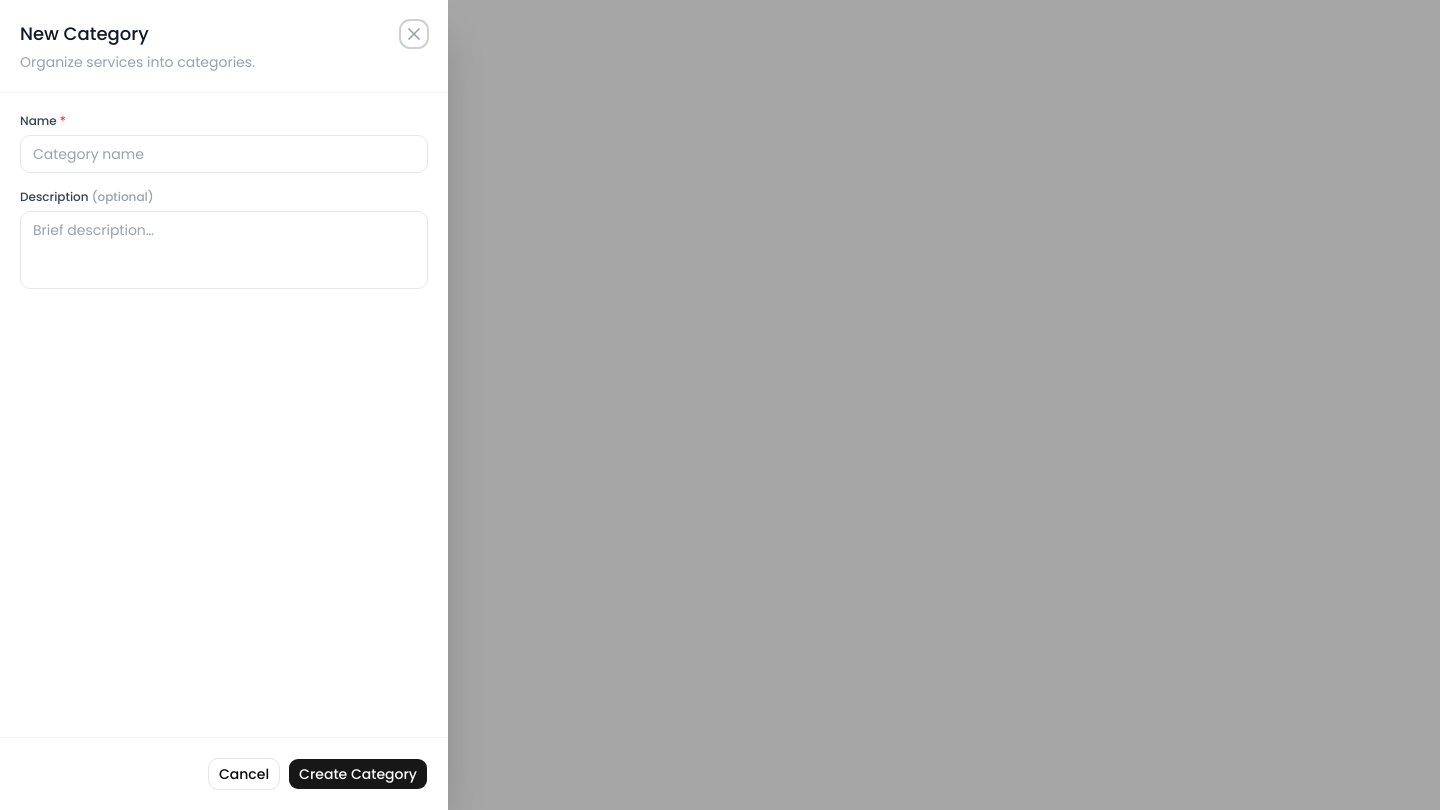
Scenario: CategoryDrawer › requires a name
Click the button "Create Category". click: x=358, y=774
box: [288, 758, 428, 790]
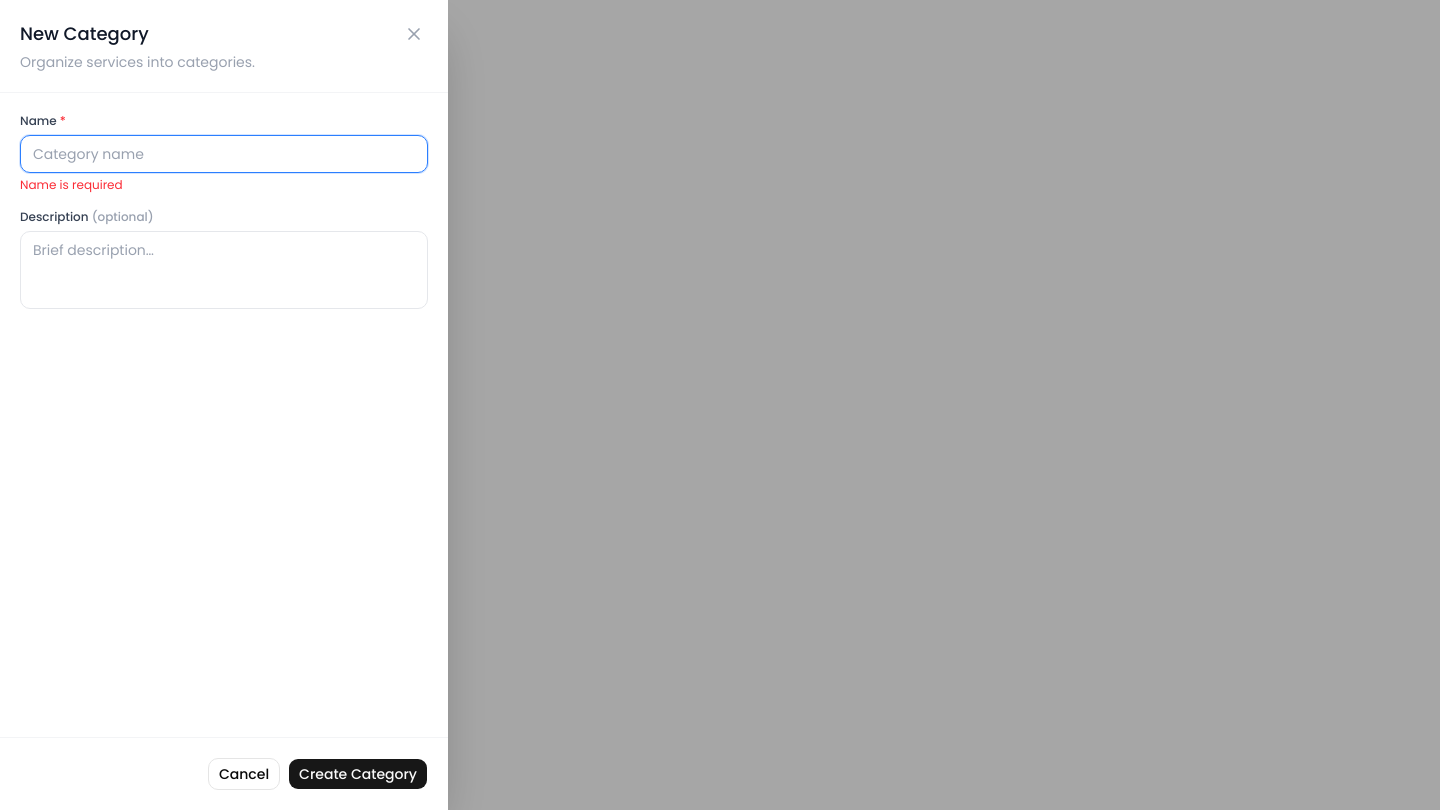
Expected: the text "Name is required" is shown, [20, 176, 123, 193]
